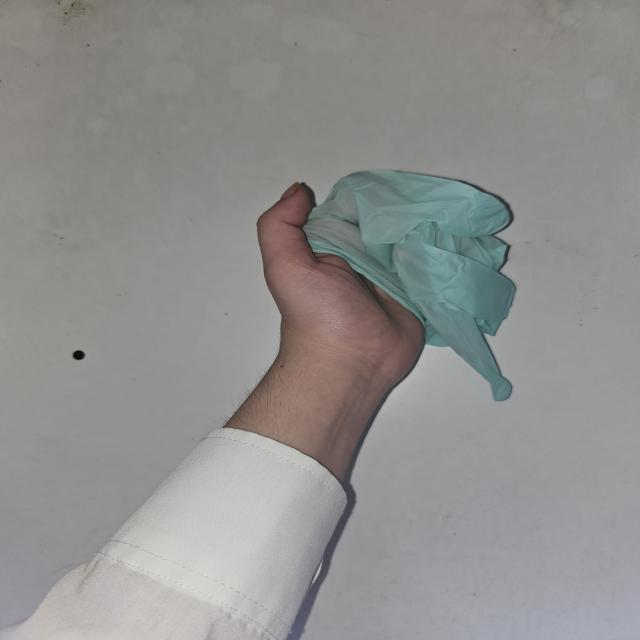glove_partial: (257, 166, 517, 408)
